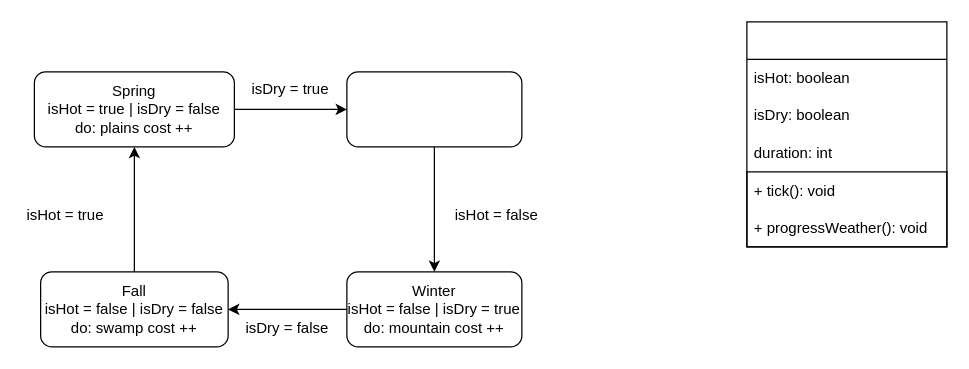
Some shapes in this 969 by 369 pixel diagram are drawn without their labels. Here are the shapes that lost their labels. From the top down, the box of each, then its label:
(346, 71, 522, 147): Summer isHot = true | isDry = true do: desert cost ++
(746, 21, 947, 247): WeatherSystem
